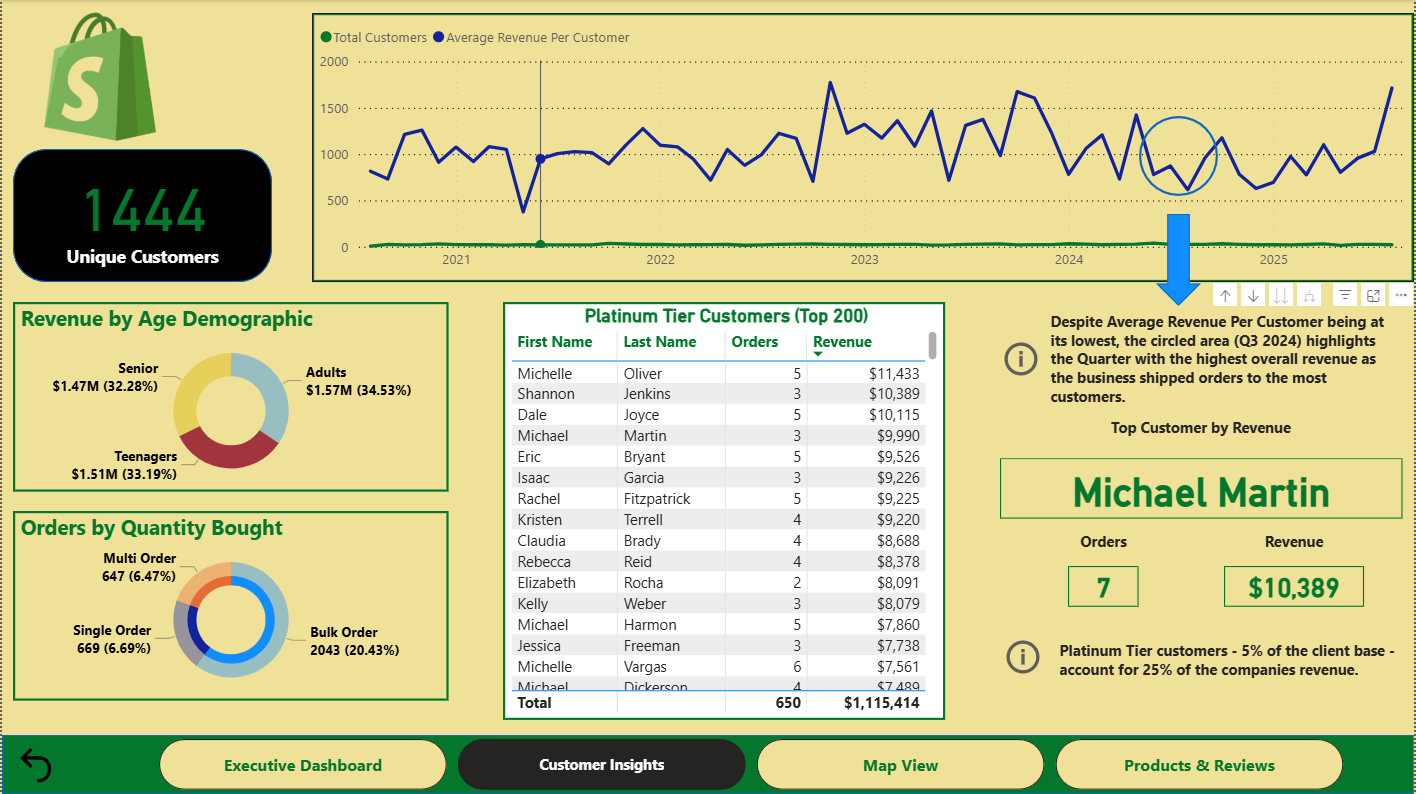

The page's visual inventory and layout, read from the dashboard file:
{"tool":"powerbi","page":{"name":"Customer Insights","canvas":[1280,720],"ordinal":1},"visuals":[{"type":"shape","box":[10,135.1,234.9,120.6],"z":2000},{"type":"card","fields":{"Values":["Measures Table.Total Customers"]},"box":[49.9,139.6,155.1,108.8],"z":3000},{"type":"donutChart","title":"Revenue by Age Demographic","fields":{"Category":["Customers Table.AGE GROUP"],"Y":["Measures Table.Net Revenue"]},"box":[10,273.9,395.4,172.3],"z":4000},{"type":"donutChart","title":"Orders by Quantity Bought","fields":{"Y":["Measures Table.Total Orders"],"Category":["Orders Table.ORDER TYPE"]},"box":[10,463.4,395.4,172.3],"z":5000},{"type":"tableEx","title":"Platinum Tier Customers (Top 200)","fields":{"Values":["Customers Table.FIRST NAME","Customers Table.LAST NAME","Measures Table.Total Orders","Measures Table.Net Revenue"]},"box":[454.3,273.9,400.8,379],"z":6000},{"type":"lineChart","fields":{"Y":["Measures Table.Total Customers","Measures Table.Average Revenue Per Customer"],"Category":["Customers Table.SIGNUP DATE.Variation.Date Hierarchy.Year","Customers Table.SIGNUP DATE.Variation.Date Hierarchy.Month"]},"box":[281.1,11.8,999.3,243.9],"z":7000},{"type":"shape","box":[1031,105.2,71.6,72.5],"z":8000},{"type":"shape","box":[1046.4,194.1,40.8,83.4],"z":9000},{"type":"textbox","box":[945.8,277.5,323.7,96.1],"z":10000},{"type":"card","fields":{"Values":["Min(Customers Table.FULL NAME)"]},"box":[905,415.3,365.4,55.3],"z":11000},{"type":"textbox","box":[905,373.6,364.5,41.7],"z":12000},{"type":"card","fields":{"Values":["Measures Table.Net Revenue"]},"box":[1108.1,513.2,127,37.2],"z":13000},{"type":"card","fields":{"Values":["Measures Table.Total Orders"]},"box":[966.6,513.2,64.4,37.2],"z":14000},{"type":"textbox","box":[947.6,477,102.5,27.2],"z":15000},{"type":"textbox","box":[1096.3,477,150.5,27.2],"z":16000},{"type":"actionButton","box":[904.1,305.6,41.7,39.9],"z":17000},{"type":"actionButton","box":[905.9,575.8,41.7,39.9],"z":18000},{"type":"textbox","box":[954,575.8,316.5,67.1],"z":19000},{"type":"shape","box":[0,666.5,1280.4,53.5],"z":20001},{"type":"actionButton","box":[10,672.8,47.2,41.7],"z":20002},{"type":"image","box":[0,4.5,177.7,129.7],"z":20003},{"type":"bookmarkNavigator","box":[142.4,670.1,1074.6,46.2],"z":20004}]}

Visuals, with their boxes in screenshot pixels (x1, y1, x2, y2), scaled from the page's 1280x720 canvas onto the 1416x794 screenshot:
shape: locate(11, 149, 271, 282)
card - Measures Table.Total Customers: locate(55, 154, 227, 274)
"Revenue by Age Demographic" donutChart: locate(11, 302, 448, 492)
"Orders by Quantity Bought" donutChart: locate(11, 511, 448, 701)
"Platinum Tier Customers (Top 200)" tableEx: locate(503, 302, 946, 720)
lineChart - Measures Table.Total Customers x Measures Table.Average Revenue Per Customer: locate(311, 13, 1415, 282)
shape: locate(1141, 116, 1220, 196)
shape: locate(1158, 214, 1203, 306)
textbox: locate(1046, 306, 1404, 412)
card - Min(Customers Table.FULL NAME): locate(1001, 458, 1405, 519)
textbox: locate(1001, 412, 1404, 458)
card - Measures Table.Net Revenue: locate(1226, 566, 1366, 607)
card - Measures Table.Total Orders: locate(1069, 566, 1141, 607)
textbox: locate(1048, 526, 1162, 556)
textbox: locate(1213, 526, 1379, 556)
actionButton: locate(1000, 337, 1046, 381)
actionButton: locate(1002, 635, 1048, 679)
textbox: locate(1055, 635, 1405, 709)
shape: locate(0, 735, 1415, 793)
actionButton: locate(11, 742, 63, 788)
image: locate(0, 5, 197, 148)
bookmarkNavigator: locate(158, 739, 1346, 790)
